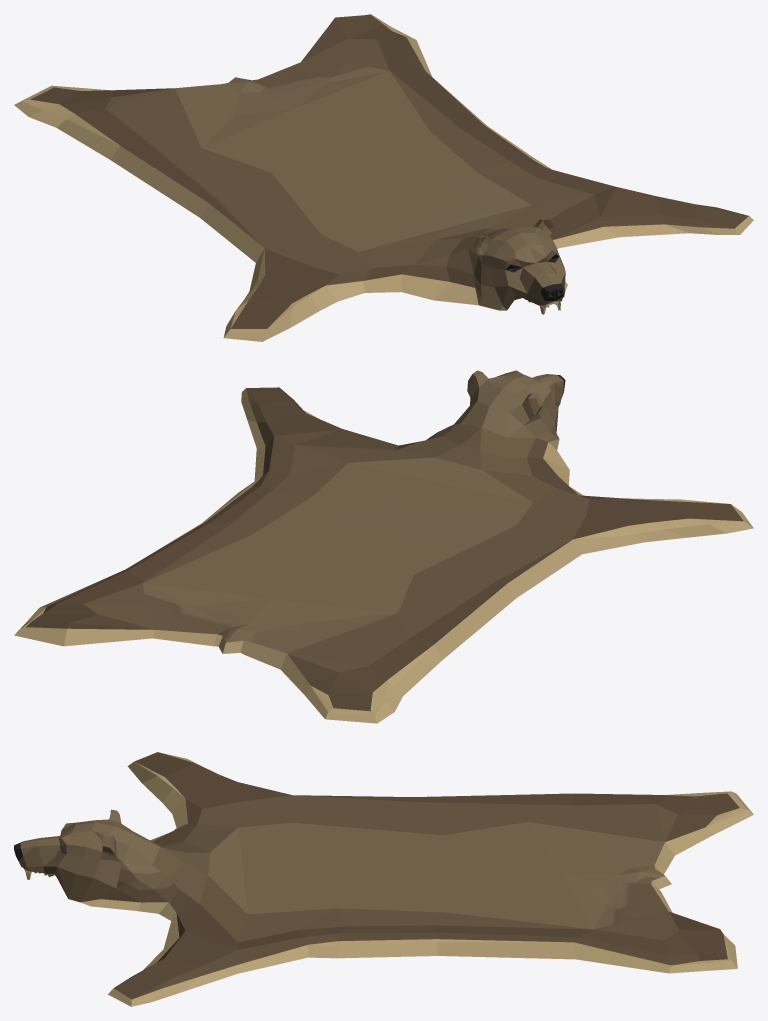
The model's file is Bear_Rug.glb.
3 views of the same model, one above another, from view 1: azimuth 30°, elevation 25°; view 2: azimuth 150°, elevation 25°; view 3: azimuth 270°, elevation 25° (orthographic).
Parts seen in each view (by area): view 1: SM_Prop_BearRug_01; view 2: SM_Prop_BearRug_01; view 3: SM_Prop_BearRug_01.
Part boxes in pixels (x1,y1,x2,y2): SM_Prop_BearRug_01: (14,14,753,341); SM_Prop_BearRug_01: (14,370,753,723); SM_Prop_BearRug_01: (14,752,753,1006).
Bounding box in the file's own units: 2.7 × 0.3215 × 3.34.
Materials: 1 (1 with a texture image).
